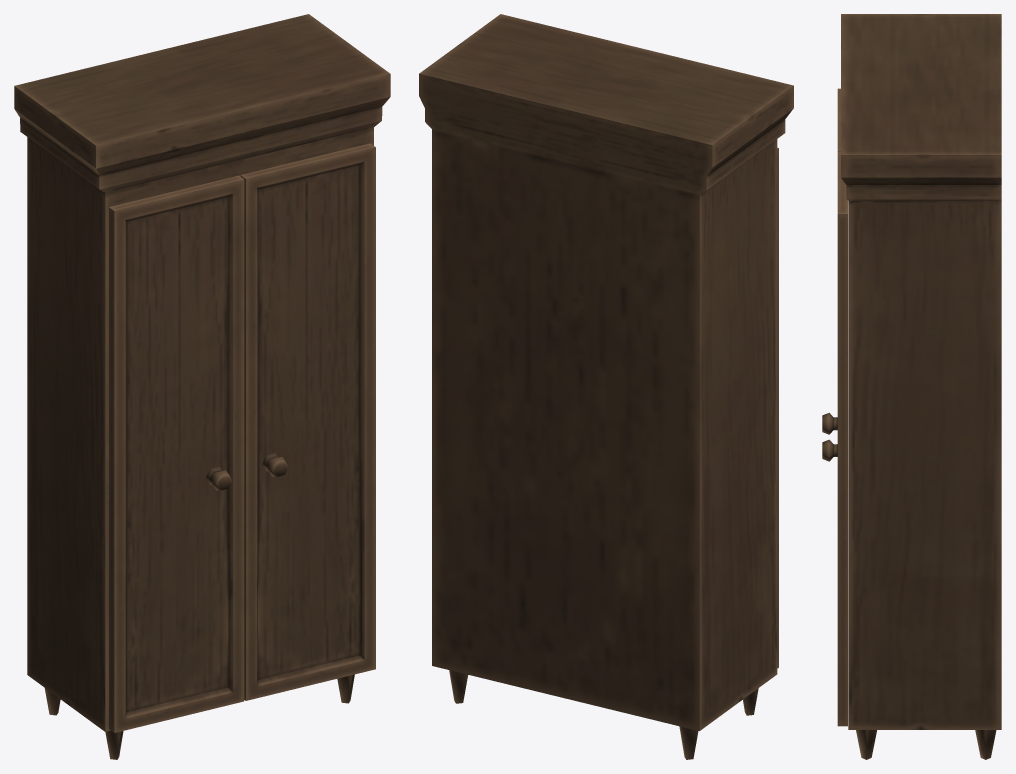
Rendered from Wardrobe_2.fbx.
The picture shows the model from 3 angles, left to right: view 1: azimuth 30°, elevation 25°; view 2: azimuth 150°, elevation 25°; view 3: azimuth 270°, elevation 25°; orthographic projection.
Visible parts, largest first — view 1: Wardrobe_2, Door_R., Door_L.002; view 2: Wardrobe_2, Door_R.; view 3: Wardrobe_2, Door_L.002, Door_R..
Part boxes in pixels (x1,y1,x2,y2): Wardrobe_2: (14, 14, 390, 759); Door_R.: (109, 175, 244, 732); Door_L.002: (240, 143, 375, 700); Wardrobe_2: (419, 14, 793, 759); Door_R.: (777, 147, 778, 668); Wardrobe_2: (841, 14, 1001, 759); Door_L.002: (822, 151, 847, 726); Door_R.: (822, 88, 840, 434).
Size of the model in its own units: 152 by 311 by 81.99.
